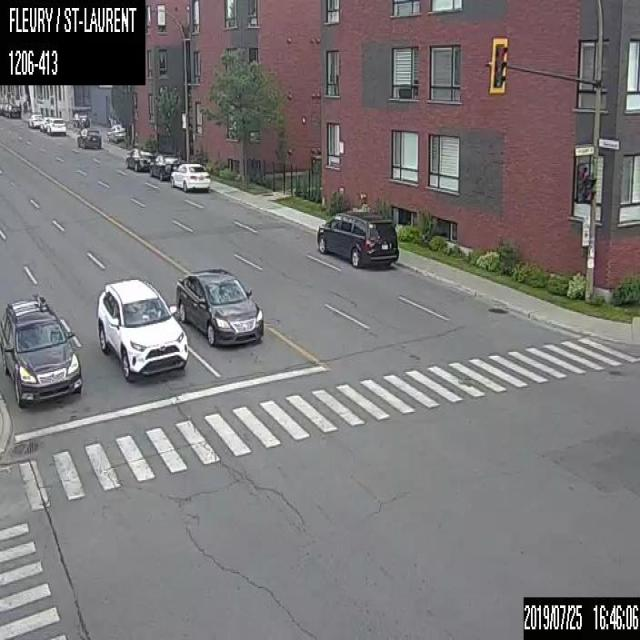vehicle: (96, 278, 188, 382), (0, 292, 81, 407), (175, 268, 263, 346), (311, 207, 397, 272), (170, 163, 211, 192), (148, 153, 184, 180), (125, 148, 156, 170), (75, 128, 101, 148), (106, 120, 125, 143), (46, 118, 66, 134), (72, 112, 89, 128), (28, 112, 42, 128), (39, 116, 51, 130), (7, 104, 20, 116)
